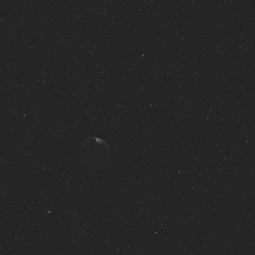debris: (73, 133, 121, 169)
